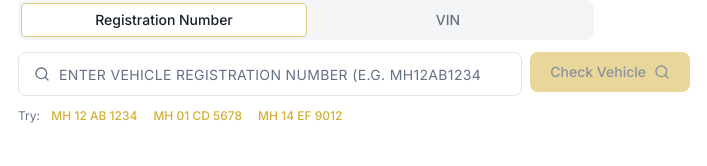
Test: SearchForm › clears input with the clear button
Type "MH12AB1234" into the field labelled "Enter vehicle registration number (e.g. MH12AB1234)". click: (270,74)
box: [18,52,522,96]
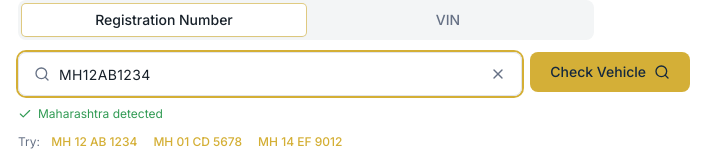
Click the button named "clear input". click: (498,74)
box: [486,62,510,86]
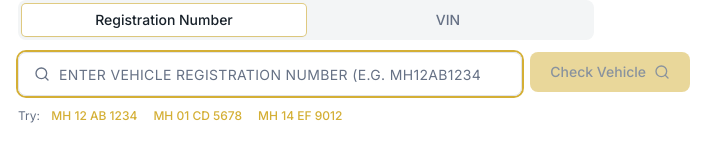
Expected: the field labelled "Enter vehicle registration number (e.g. MH12AB1234)" is empty, [18,52,522,96]
